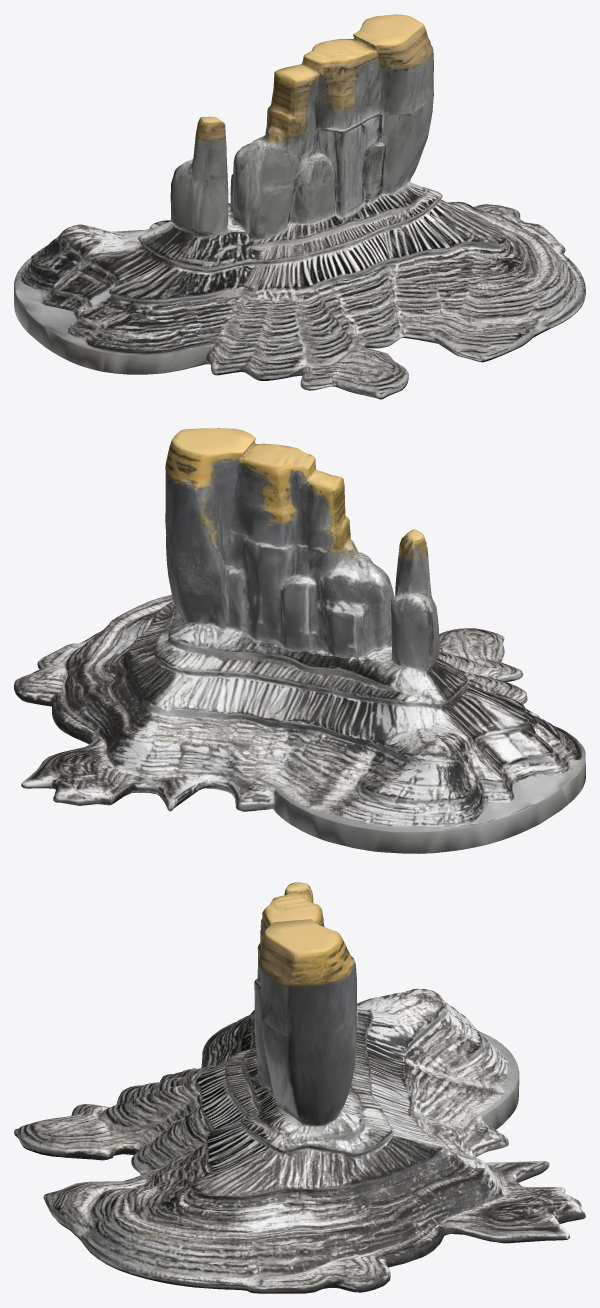
The model's file is monument_valley.glb.
The picture shows the model from 3 angles, top to bottom: view 1: azimuth 30°, elevation 25°; view 2: azimuth 150°, elevation 25°; view 3: azimuth 270°, elevation 25°; orthographic projection. The views are drawn at different scales.
Parts seen in each view (by area): view 1: Mesh_0; view 2: Mesh_0; view 3: Mesh_0.
Boxes of the visible parts, box(x1,y1,x2,y2) form: Mesh_0: box(14, 14, 585, 399); Mesh_0: box(14, 428, 585, 853); Mesh_0: box(14, 882, 585, 1293).
Size of the model in its own units: 1.9 by 0.921 by 1.72.
1 material, 1 textured.
